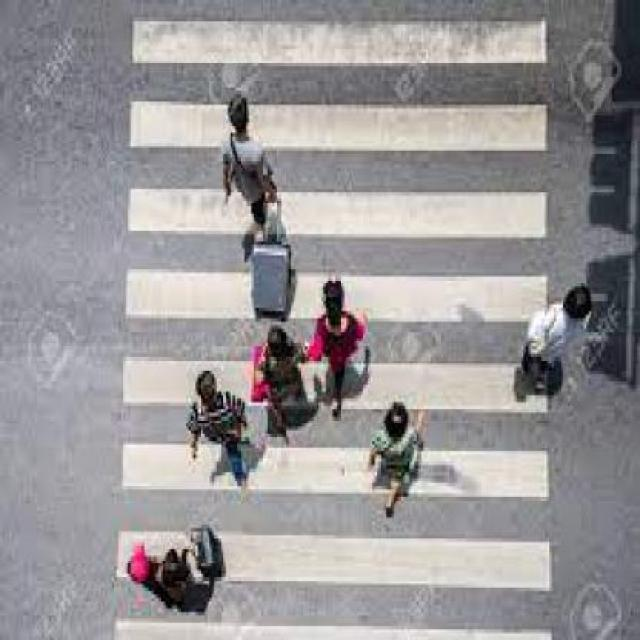crosswalk: (111, 15, 555, 640)
